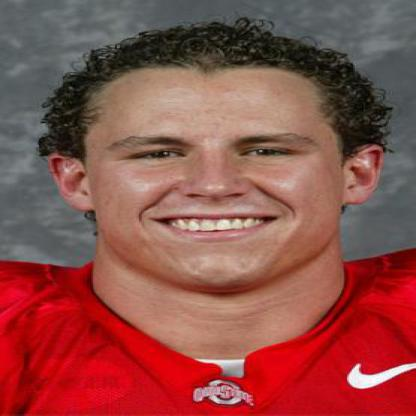face: (85, 33, 351, 294)
